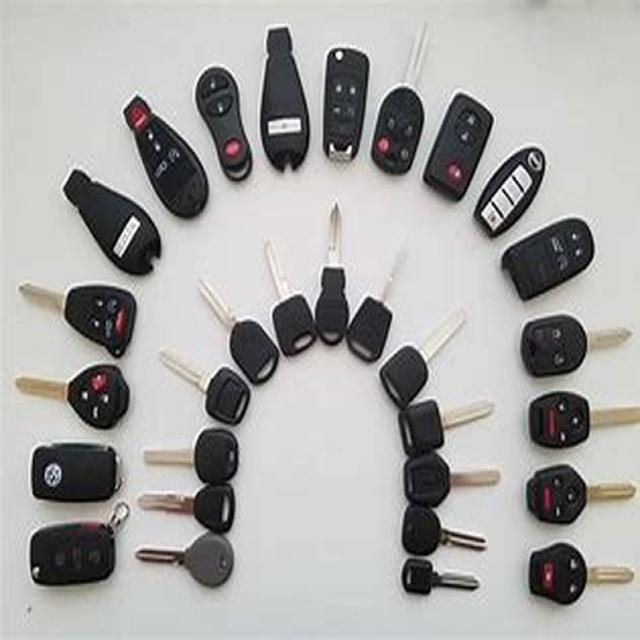key: (33, 137, 186, 307), (162, 250, 298, 404), (103, 65, 221, 234), (354, 292, 490, 425), (359, 4, 452, 189), (482, 191, 612, 311), (461, 118, 571, 257), (413, 71, 516, 218), (133, 325, 264, 439), (178, 37, 262, 206), (337, 228, 424, 374), (246, 221, 326, 378), (2, 278, 146, 364), (14, 358, 147, 443), (246, 25, 314, 188), (502, 306, 640, 382), (8, 516, 134, 596), (317, 18, 380, 170), (122, 526, 251, 597), (22, 426, 129, 510), (520, 531, 637, 607), (514, 386, 640, 456), (124, 421, 250, 488), (385, 493, 503, 560), (310, 186, 352, 370), (382, 397, 505, 458), (527, 461, 640, 523), (125, 476, 254, 530), (389, 457, 516, 507), (391, 553, 484, 607)
